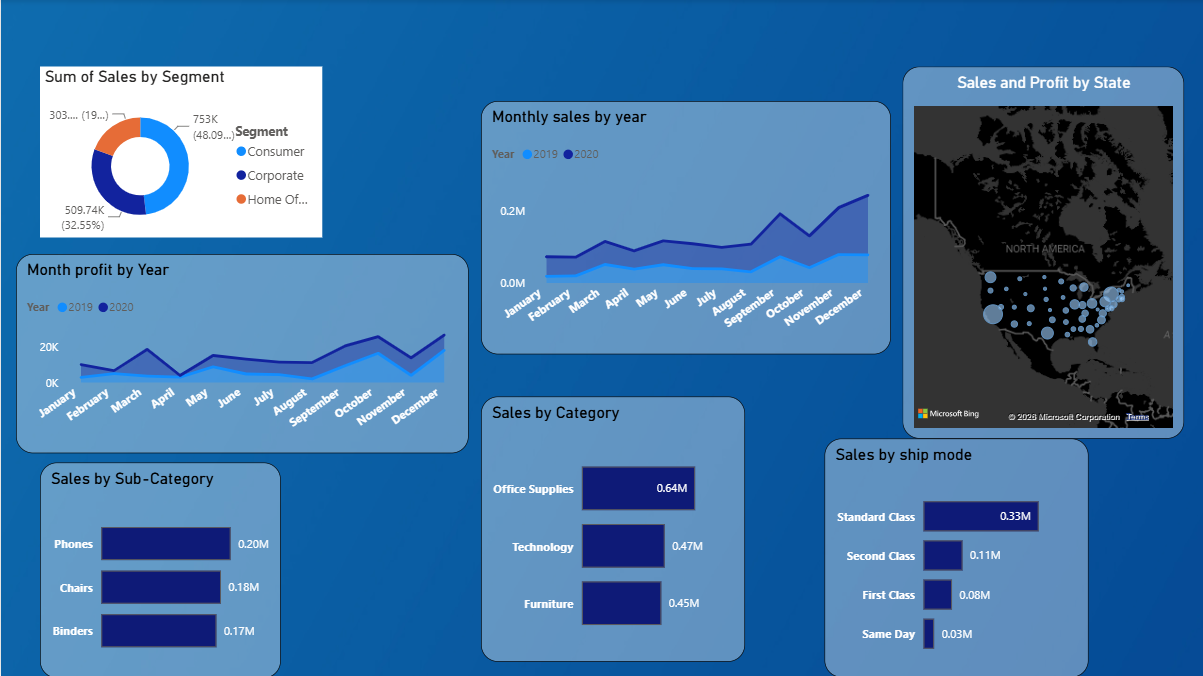

This screenshot's page, from the dashboard's own definition file:
{"tool":"powerbi","page":{"name":"Page 1","canvas":[1280,720],"ordinal":0},"visuals":[{"type":"clusteredBarChart","title":"Sales by Category","fields":{"Category":["SuperStore_Sales_Dataset.Category"],"Y":["Sum(SuperStore_Sales_Dataset.Sales)"]},"box":[508.4,421.4,279.7,281.6],"z":0},{"type":"clusteredBarChart","title":"Sales by Sub-Category","fields":{"Category":["SuperStore_Sales_Dataset.Sub-Category"],"Y":["Sum(SuperStore_Sales_Dataset.Sales)"]},"box":[41.6,491.3,255.1,228.7],"z":1000},{"type":"clusteredBarChart","title":"Sales by ship mode","fields":{"Category":["SuperStore_Sales_Dataset.Ship Mode"],"Y":["Sum(SuperStore_Sales_Dataset.Sales)"]},"box":[873.1,466.8,279.7,253.2],"z":2000},{"type":"stackedAreaChart","title":"Monthly sales by year ","fields":{"Category":["SuperStore_Sales_Dataset.Order Date.Variation.Date Hierarchy.Month"],"Series":["SuperStore_Sales_Dataset.Order Date.Variation.Date Hierarchy.Year"],"Y":["Sum(SuperStore_Sales_Dataset.Sales)"]},"box":[508.4,107.7,434.6,268.3],"z":3000},{"type":"stackedAreaChart","title":" Month profit by Year","fields":{"Category":["SuperStore_Sales_Dataset.Order Date.Variation.Date Hierarchy.Month"],"Series":["SuperStore_Sales_Dataset.Order Date.Variation.Date Hierarchy.Year"],"Y":["Sum(SuperStore_Sales_Dataset.Profit)"]},"box":[15.1,270.2,480,211.7],"z":4000},{"type":"map","title":"Sales and  Profit by State","fields":{"Category":["SuperStore_Sales_Dataset.State"],"Size":["Sum(SuperStore_Sales_Dataset.Sales)"]},"box":[956.2,71.8,298.6,395],"z":5000},{"type":"donutChart","fields":{"Category":["SuperStore_Sales_Dataset.Segment"],"Y":["Sum(SuperStore_Sales_Dataset.Sales)"]},"box":[41.6,71.8,299,181],"z":6000}]}

Visuals, with their boxes in screenshot pixels (x1, y1, x2, y2), scaled from the page's 1280x720 canvas onto the 1203x676 screenshot:
"Sales by Category" clusteredBarChart: BBox(478, 396, 741, 660)
"Sales by Sub-Category" clusteredBarChart: BBox(39, 461, 279, 675)
"Sales by ship mode" clusteredBarChart: BBox(821, 438, 1083, 675)
"Monthly sales by year " stackedAreaChart: BBox(478, 101, 886, 353)
" Month profit by Year" stackedAreaChart: BBox(14, 254, 465, 452)
"Sales and  Profit by State" map: BBox(899, 67, 1179, 438)
donutChart - SuperStore_Sales_Dataset.Segment x Sum(SuperStore_Sales_Dataset.Sales): BBox(39, 67, 320, 237)
